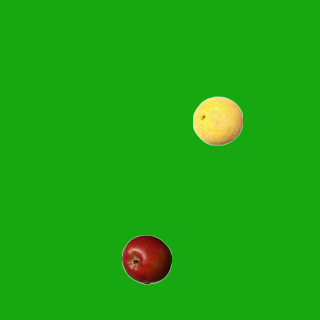Apple Braeburn: (121, 234, 171, 284)
Cantaloupe 1: (192, 95, 242, 145)
